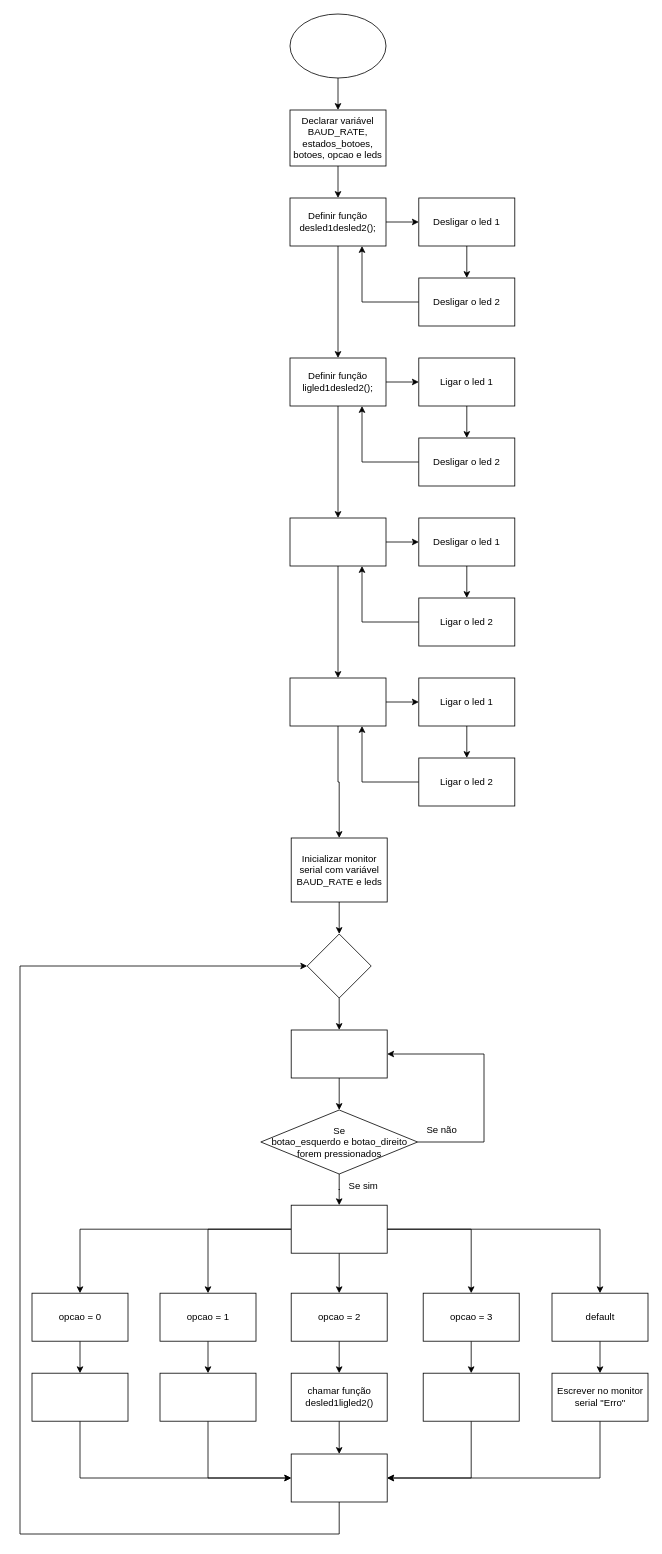
Some shapes in this 662 by 1554 pixel diagram are drawn without their labels. Here are the shapes that lost their labels. From the top down, the centre of each, then its label:
At [337,45]: "Início".
At [337,541]: "Definir função desled1ligled2();".
At [337,701]: "Definir função ligled1ligled2();".
At [338,965]: "Repetir sempre".
At [338,1053]: "Ler botão esquerdo e ler botão direito".
At [338,1228]: "Avaliar opcao".
At [79,1396]: "chamar função desled1desled2()".
At [207,1396]: "chamar função ligled1desled2()".
At [470,1396]: "chamar função ligled1ligled2()".
At [338,1477]: "definir delay de 100 ms".
